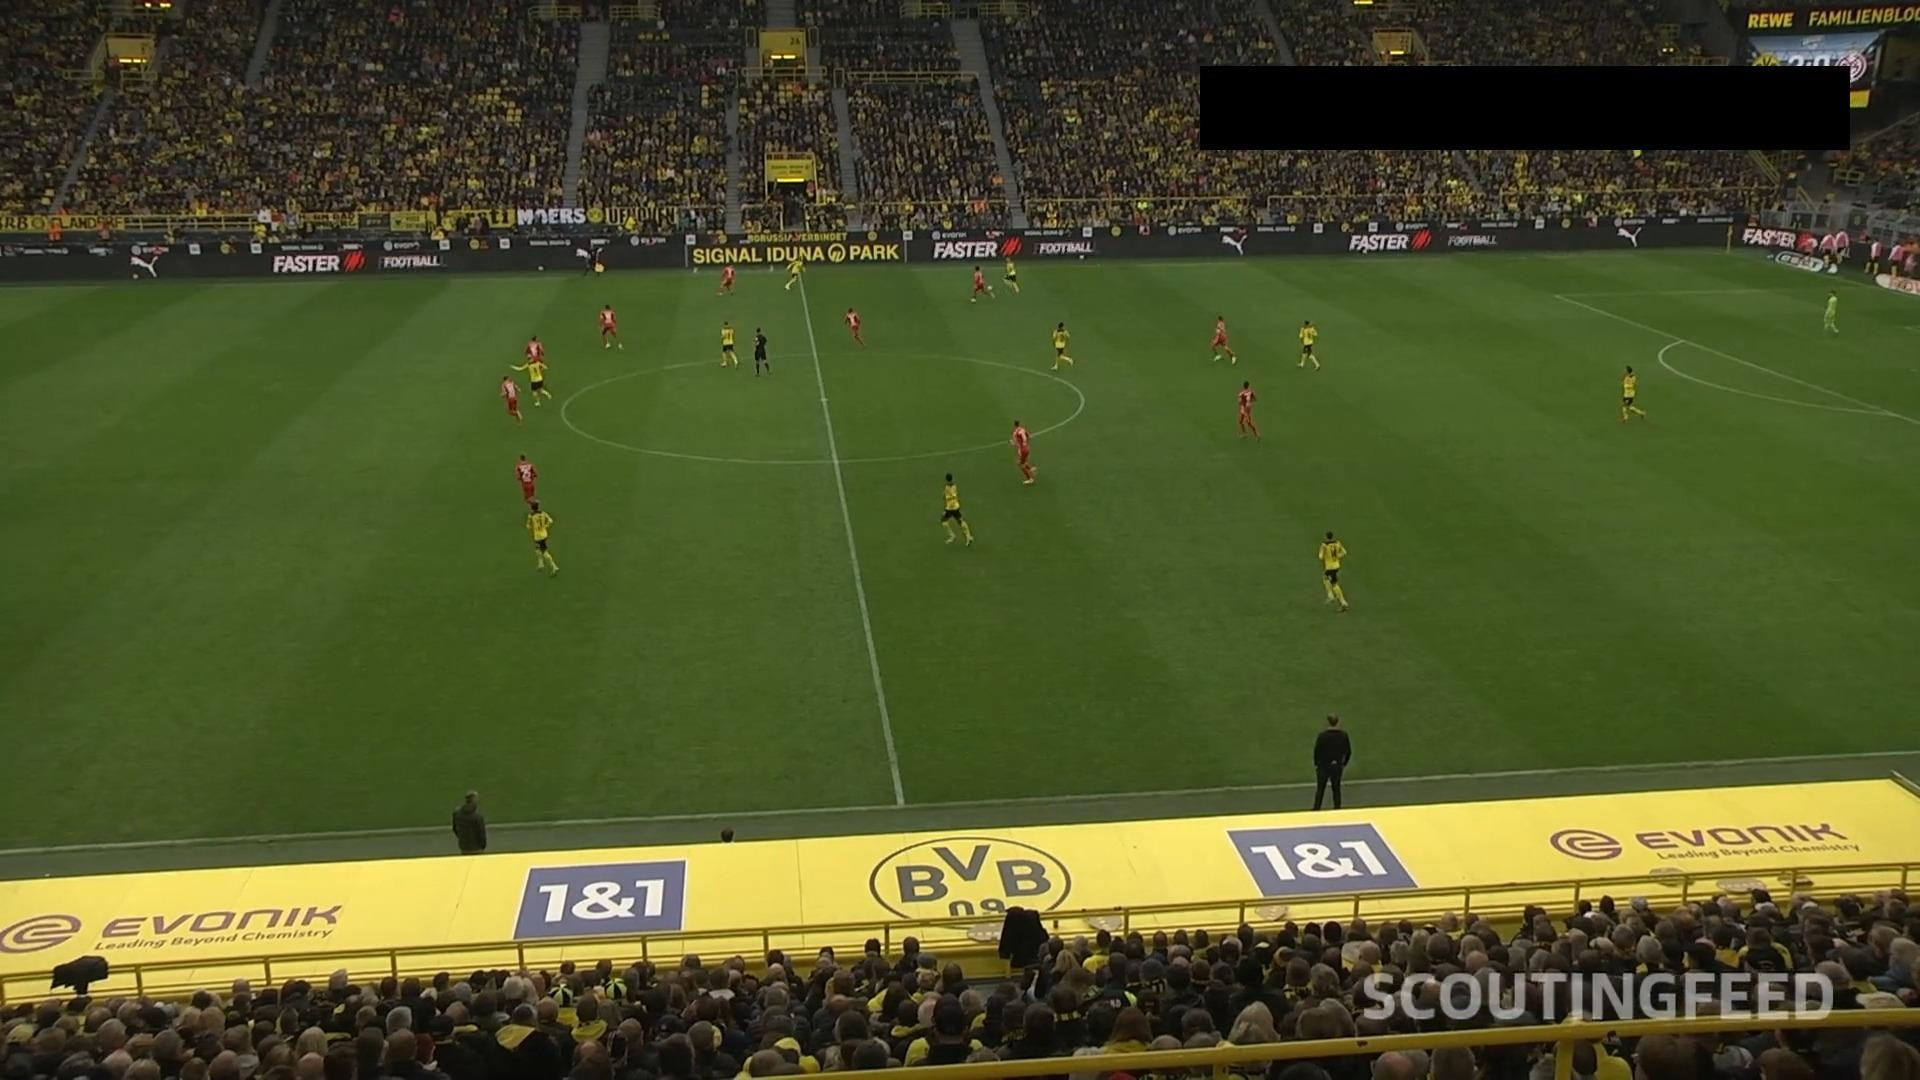ball: (986, 285, 993, 291)
